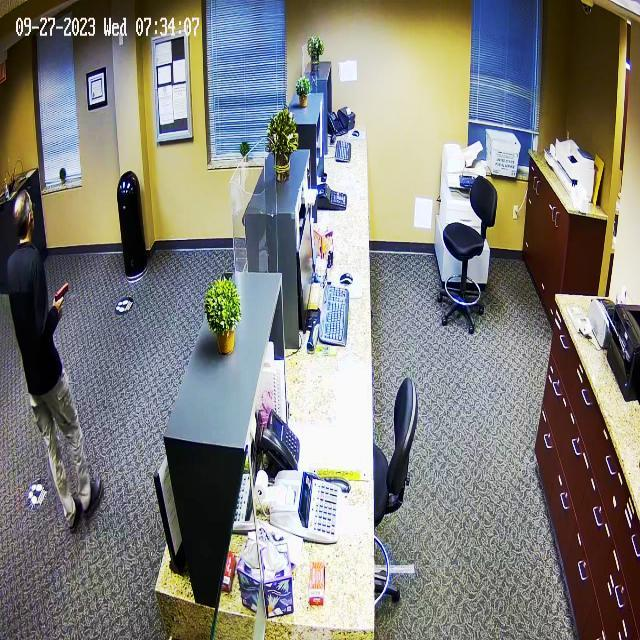Gun: (44, 269, 85, 329)
